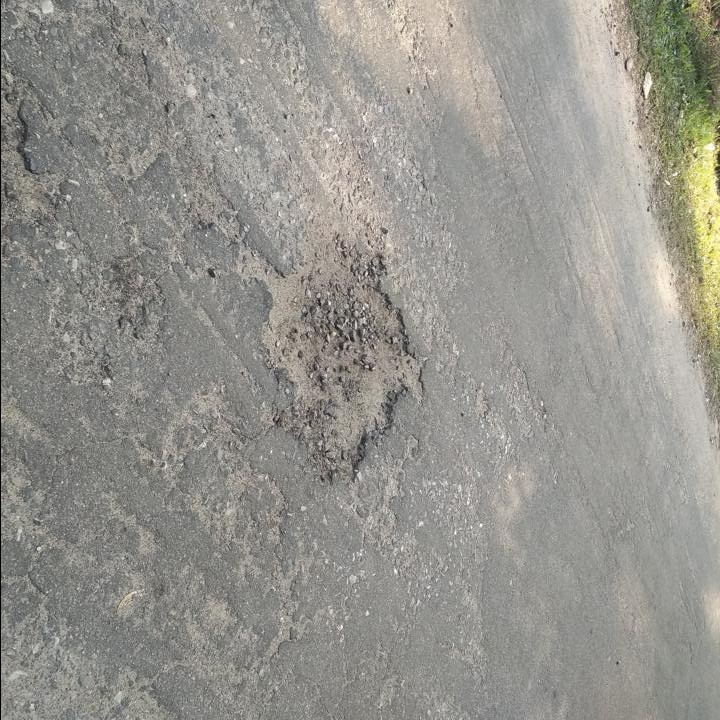pothole: (257, 215, 431, 487), (0, 75, 63, 237)
